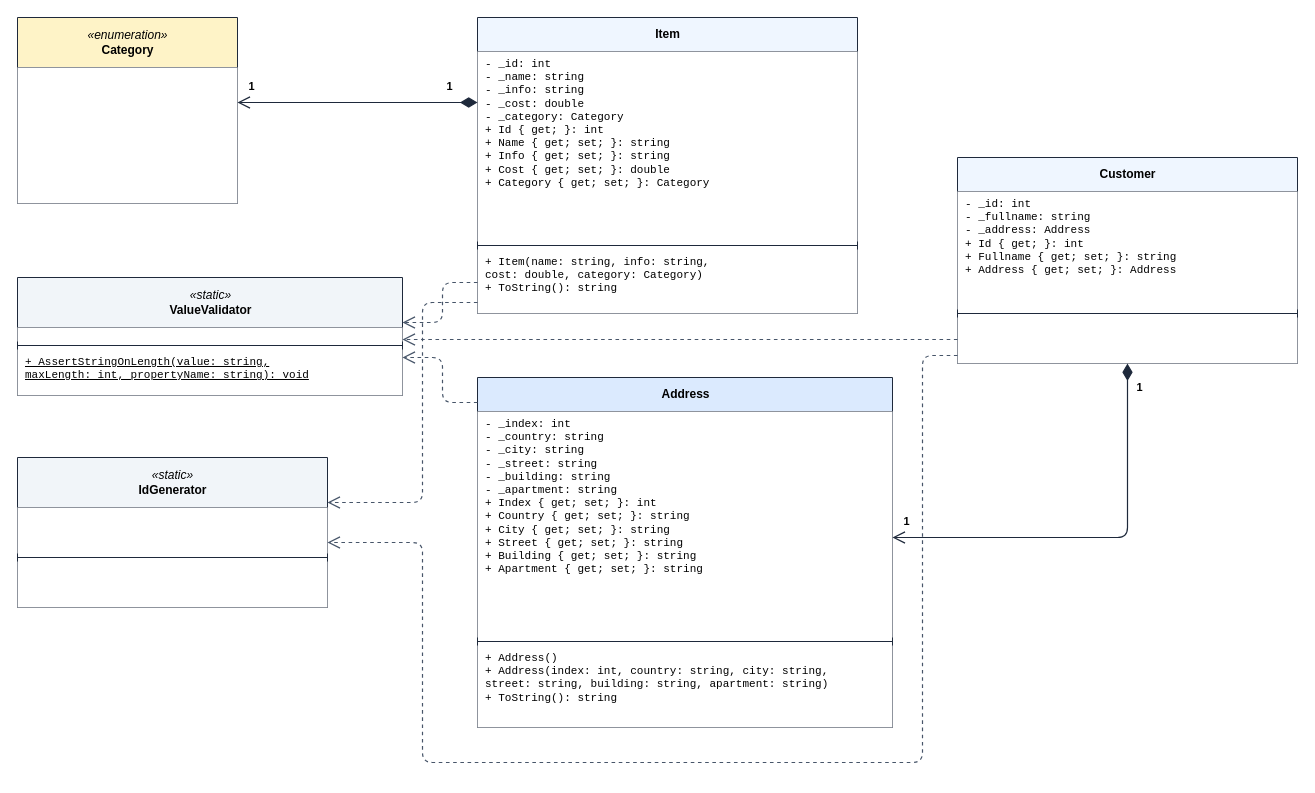
Some shapes in this 1315 by 793 pixel diagram are drawn without their labels. Each missing label, with the centre of its shape:
"+ Customer(fullname: string) + ToString(): string" goes at point (1127, 340).
"+ GetNextItemId(): int + GetNextCustomerId(): int" goes at point (172, 584).
"- _nextItemId: int - _nextCustomerId: int" goes at point (172, 530).
"Electronics Clothes Shoes Books Food Sport Home" goes at point (127, 135).
